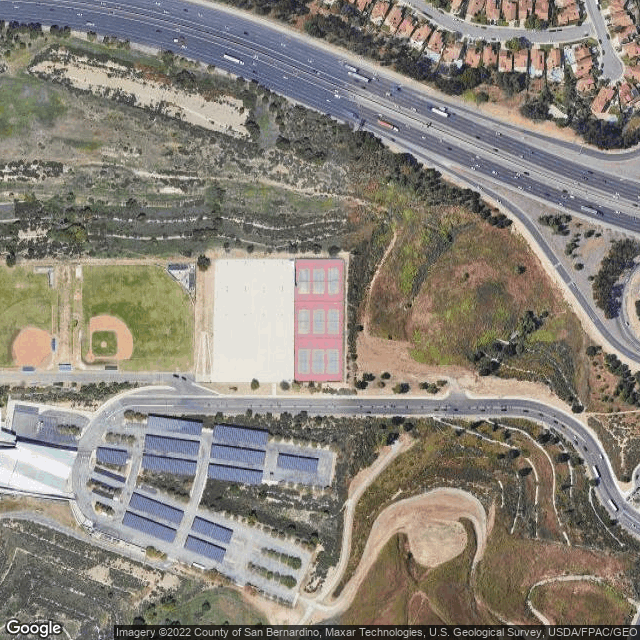Court: (298, 309, 311, 335), (311, 348, 324, 374), (326, 348, 339, 374), (312, 309, 325, 334), (326, 309, 338, 334), (299, 269, 310, 294), (312, 269, 323, 293), (329, 269, 339, 294), (299, 349, 309, 373)
